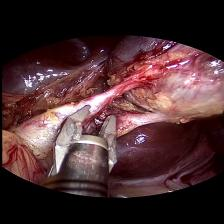Clipper: (42, 102, 120, 186)
